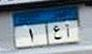1: (28, 27, 35, 44)
ain: (52, 25, 63, 42)
alif: (64, 23, 71, 40)
